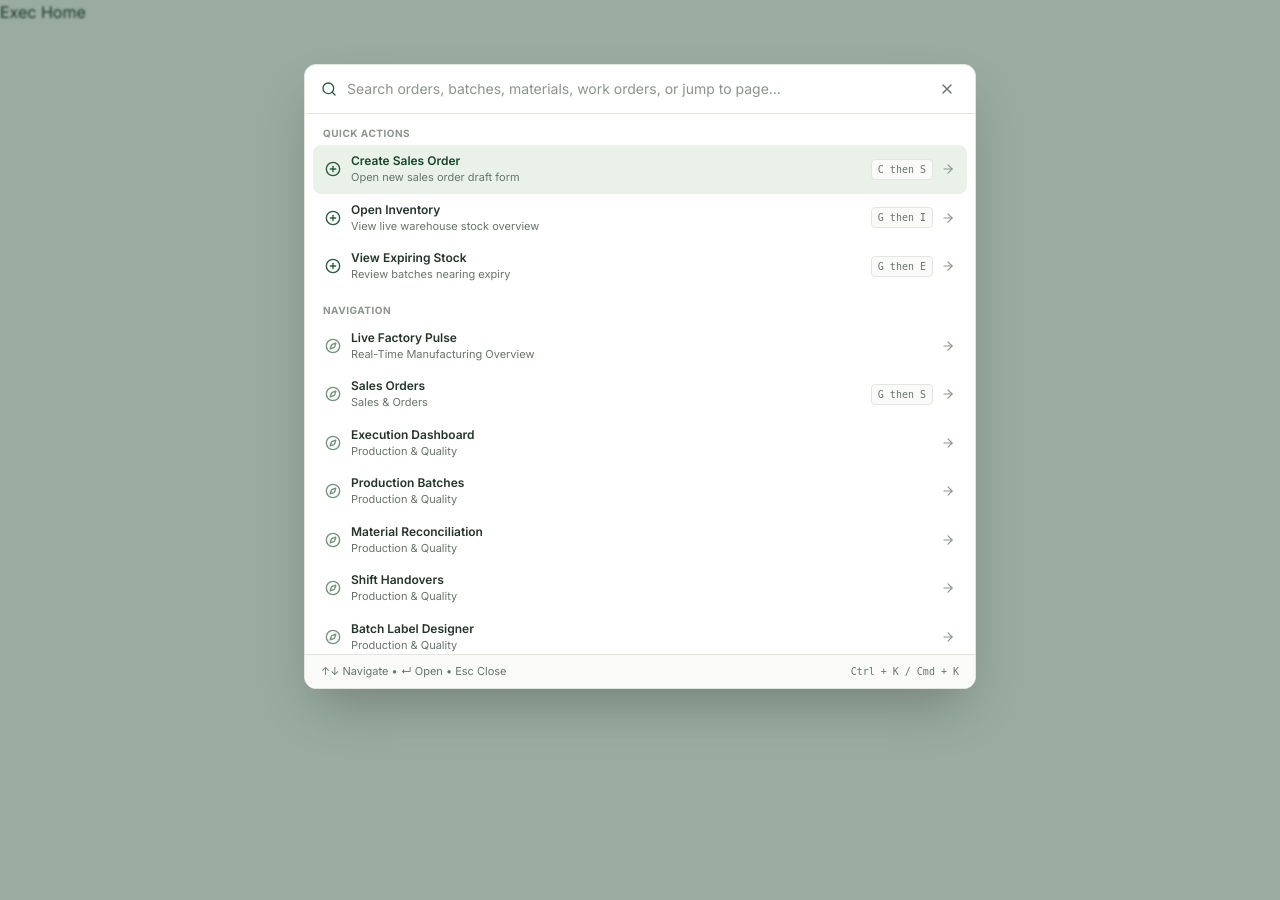
Test case: Sprint 1: Command Center Frontend › navigates Open Inventory to /inventory/dashboard and View Expiring Stock to /inventory/batches
Click the text "Open Inventory".
click(396, 209)  # box [351,202,440,216]
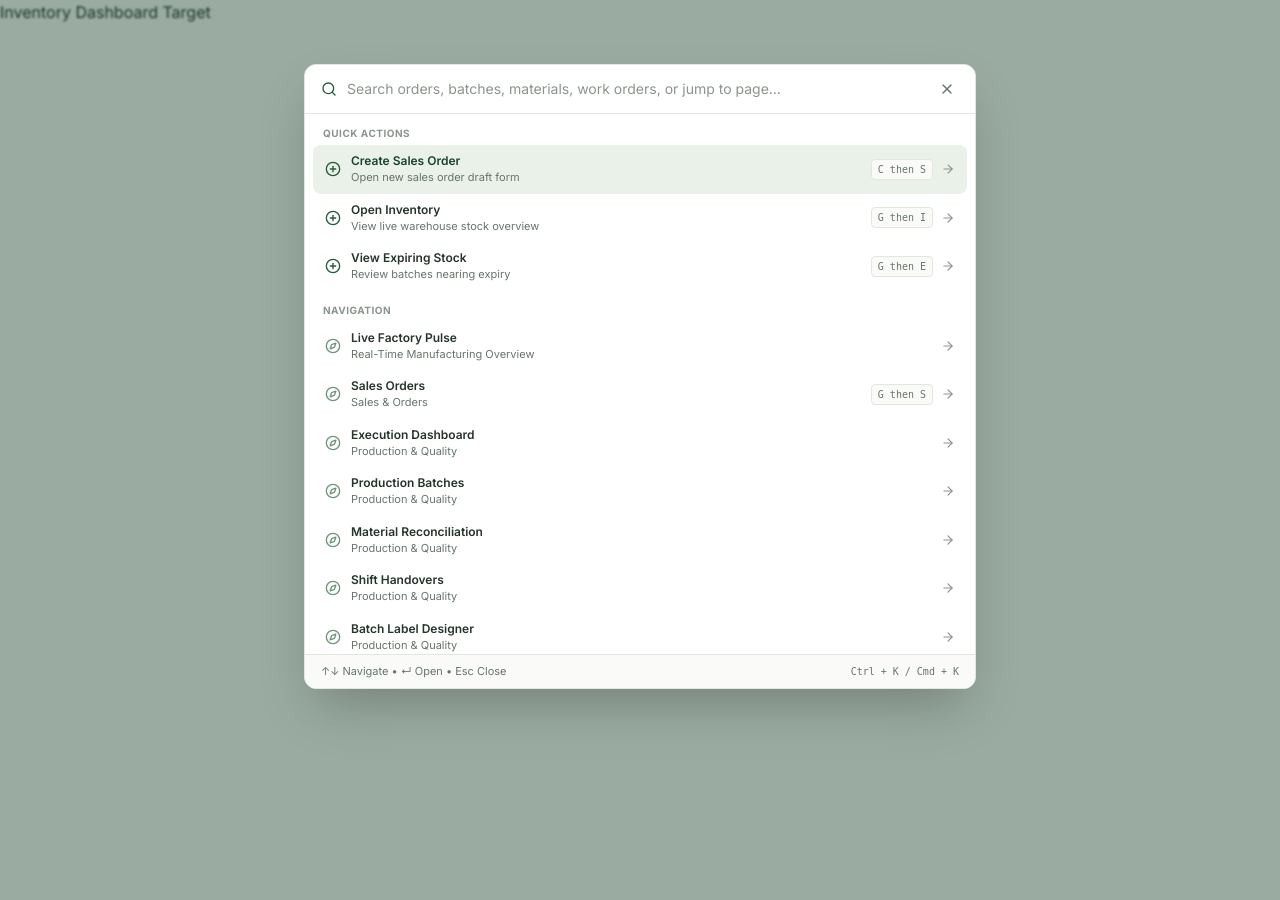
Check: the text "Inventory Dashboard Target" is shown, box [0,2,211,22]
Click the text "View Expiring Stock".
click(409, 258)  # box [351,250,466,265]
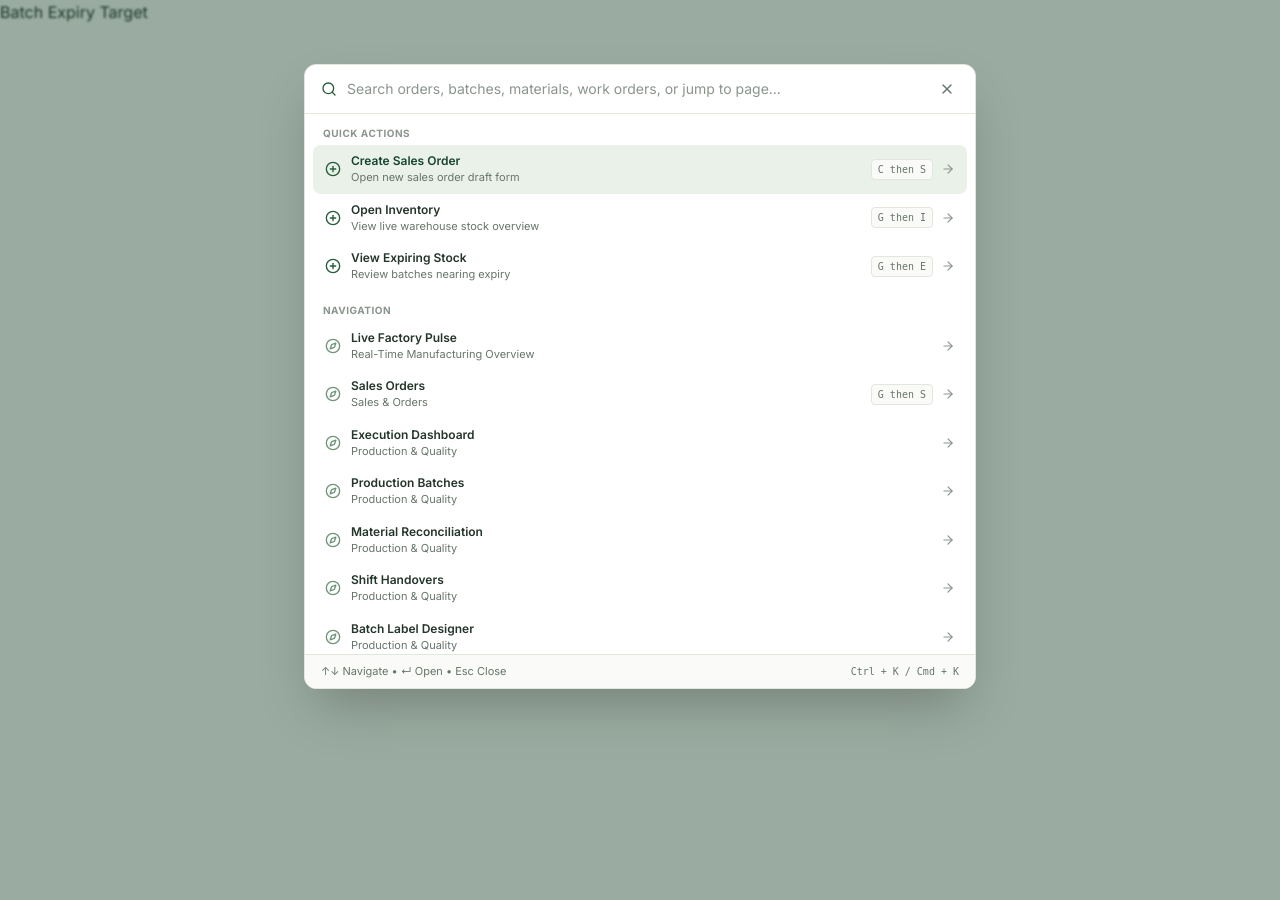
Check: the text "Batch Expiry Target" is shown, box [0,2,148,22]
